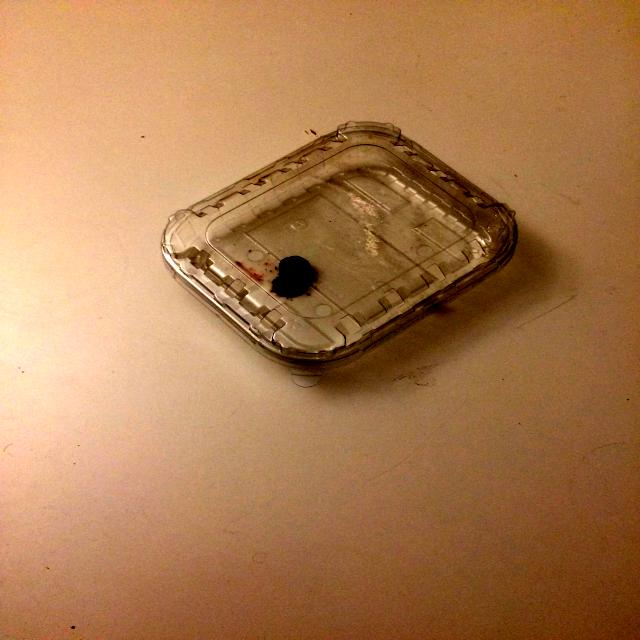Plastic: (147, 108, 524, 377)
